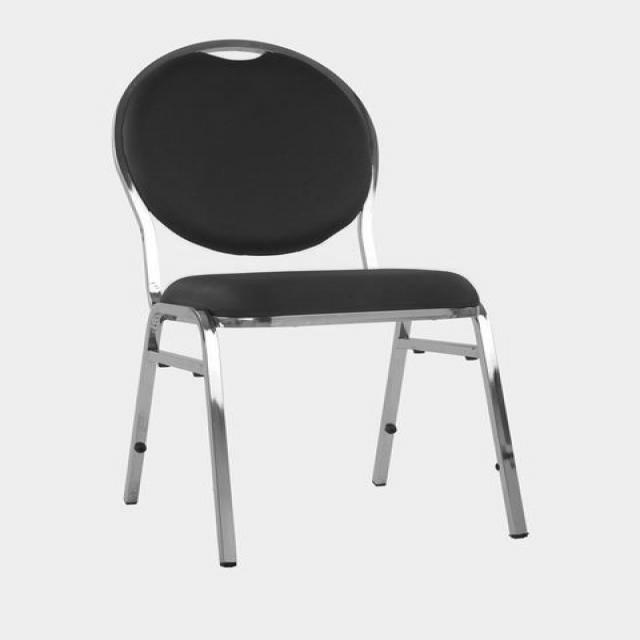chair: (112, 37, 531, 576)
